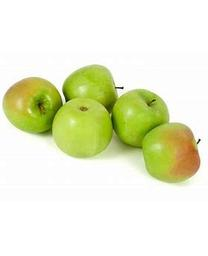apple: (51, 97, 112, 157), (142, 122, 201, 182), (111, 88, 169, 147), (2, 76, 62, 133), (63, 64, 119, 110)
